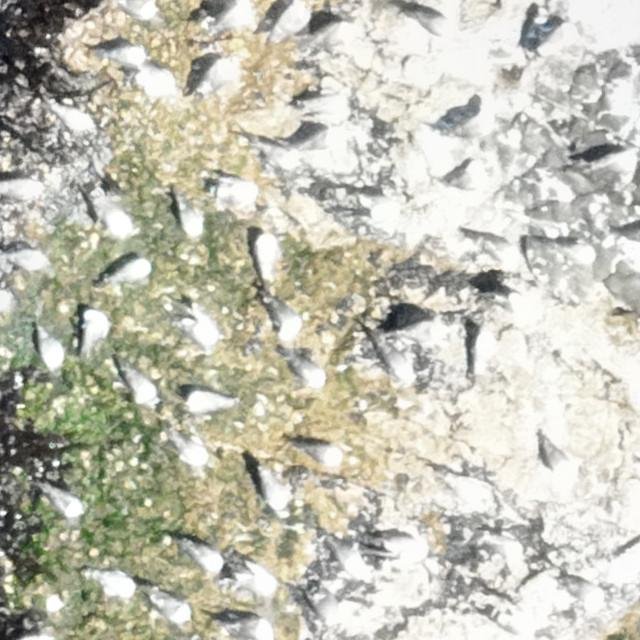umineko: (366, 522, 426, 560), (245, 125, 298, 165), (230, 554, 280, 596), (176, 301, 218, 350), (308, 25, 362, 62), (92, 193, 136, 235), (466, 230, 522, 262), (250, 231, 278, 293), (272, 1, 312, 44), (265, 299, 306, 340), (542, 433, 576, 482), (403, 5, 452, 39), (283, 351, 325, 390), (294, 120, 348, 150), (177, 542, 225, 572), (443, 160, 489, 191), (377, 346, 412, 386), (212, 178, 258, 208), (120, 367, 155, 406), (53, 101, 97, 132), (258, 467, 290, 509), (392, 320, 448, 344), (38, 327, 69, 370), (201, 56, 237, 93), (207, 2, 254, 30), (550, 237, 595, 266), (312, 591, 346, 629), (103, 38, 146, 68), (45, 485, 86, 516), (446, 474, 488, 504), (334, 538, 366, 577), (536, 21, 579, 50), (79, 310, 106, 354), (153, 594, 195, 622), (3, 176, 42, 206), (172, 437, 208, 468), (183, 390, 234, 411), (454, 111, 495, 137), (110, 260, 153, 284), (230, 616, 275, 638), (12, 245, 55, 268), (97, 566, 135, 592), (590, 149, 636, 170), (176, 198, 198, 236), (304, 444, 337, 463)
